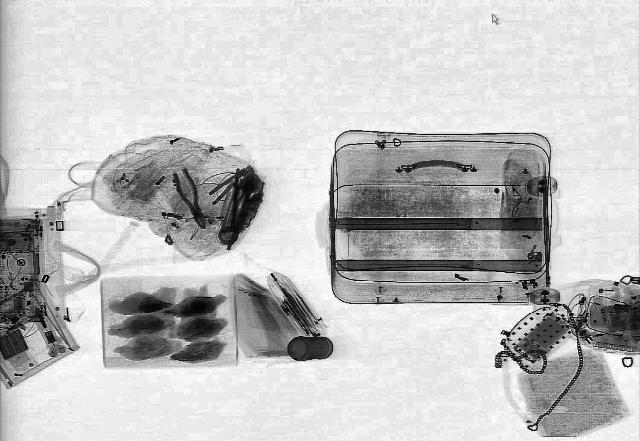Pliers: (167, 168, 213, 230), (200, 168, 254, 205)
